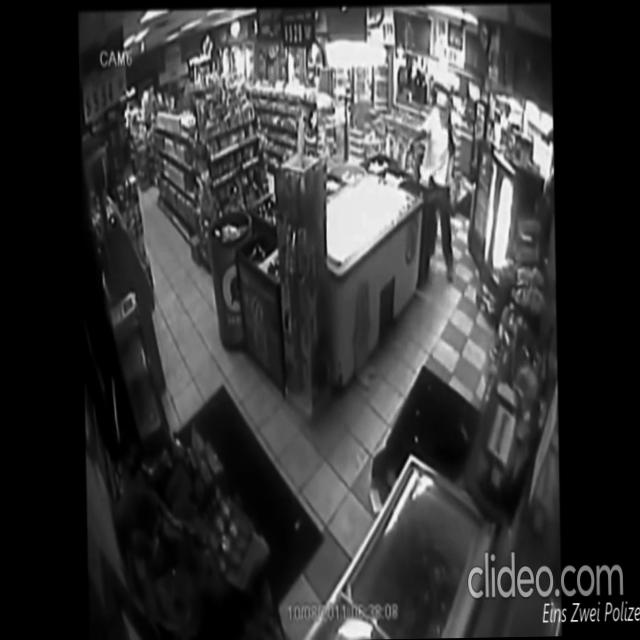gun: (404, 136, 416, 160)
person with a gun: (404, 87, 459, 290)
